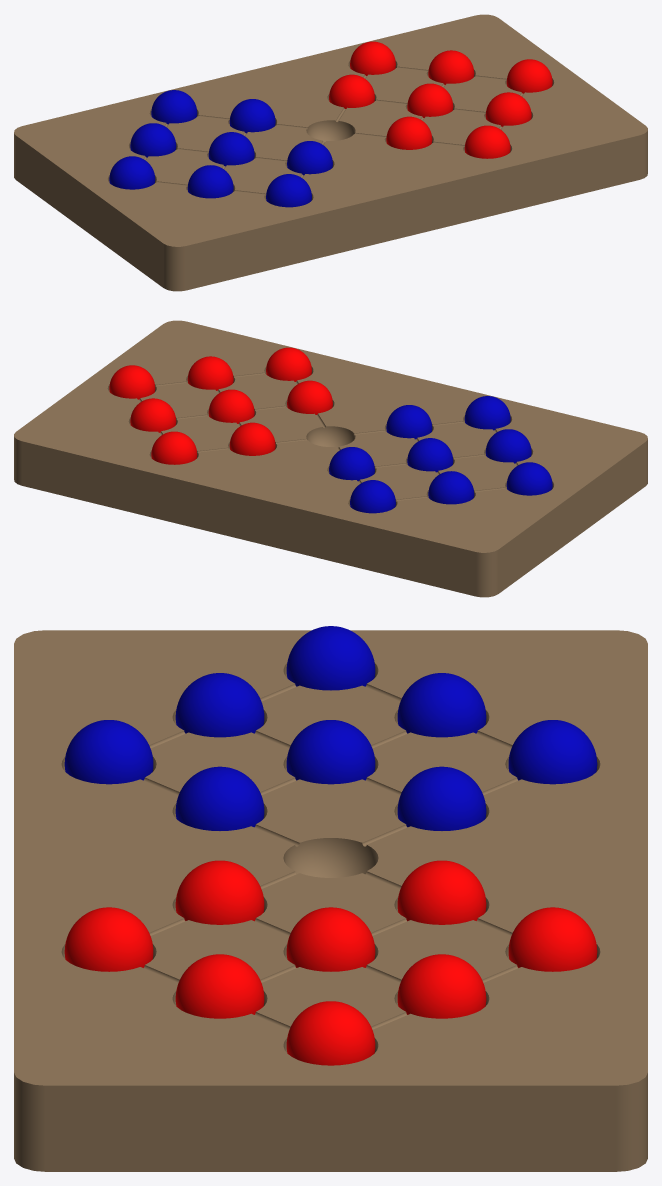
File: Model_Mini_Juego_3.fbx
3 views of the same model, one above another, from view 1: azimuth 30°, elevation 25°; view 2: azimuth 150°, elevation 25°; view 3: azimuth 270°, elevation 25° (orthographic). The views are drawn at different scales.
Parts seen in each view (by area): view 1: Object_17, Object_4, Object_16, Object_11, Object_3, Object_15, Object_5, Object_9, Object_14, Object_2, Object_6, Object_8 (+5 smaller); view 2: Object_17, Object_12, Object_4, Object_11, Object_13, Object_3, Object_5, Object_10, Object_14, Object_1, Object_6, Object_7 (+5 smaller); view 3: Object_17, Object_6, Object_3, Object_14, Object_5, Object_4, Object_13, Object_1, Object_8, Object_15, Object_2, Object_11 (+5 smaller).
Part boxes in pixels (<box>): Object_17: <box>14,14,647,291</box>; Object_4: <box>506,59,552,93</box>; Object_16: <box>151,90,197,124</box>; Object_11: <box>208,132,254,166</box>; Object_3: <box>485,92,531,126</box>; Object_15: <box>130,123,176,157</box>; Object_5: <box>428,50,474,84</box>; Object_9: <box>229,99,275,133</box>; Object_14: <box>109,156,155,189</box>; Object_2: <box>464,125,510,158</box>; Object_6: <box>407,83,453,117</box>; Object_8: <box>329,74,374,108</box>; Object_17: <box>14,320,647,597</box>; Object_12: <box>464,396,510,430</box>; Object_4: <box>109,365,155,399</box>; Object_11: <box>407,438,453,472</box>; Object_13: <box>485,429,531,463</box>; Object_3: <box>187,356,233,390</box>; Object_5: <box>130,398,176,432</box>; Object_10: <box>386,405,432,439</box>; Object_14: <box>506,462,552,495</box>; Object_1: <box>287,380,332,414</box>; Object_6: <box>208,389,254,423</box>; Object_7: <box>151,431,197,464</box>; Object_17: <box>14,630,647,1171</box>; Object_6: <box>286,907,375,971</box>; Object_3: <box>175,954,264,1018</box>; Object_14: <box>286,626,375,690</box>; Object_5: <box>397,954,486,1018</box>; Object_4: <box>286,1001,375,1065</box>; Object_13: <box>175,673,264,737</box>; Object_1: <box>175,860,264,924</box>; Object_8: <box>397,860,486,924</box>; Object_15: <box>397,673,486,737</box>; Object_2: <box>64,907,153,971</box>; Object_11: <box>286,720,375,784</box>.
Bounding box in the file's own units: 34 × 20 × 4.4.
